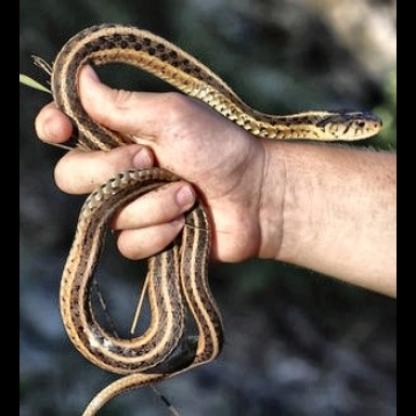Snake: (47, 22, 381, 392)
